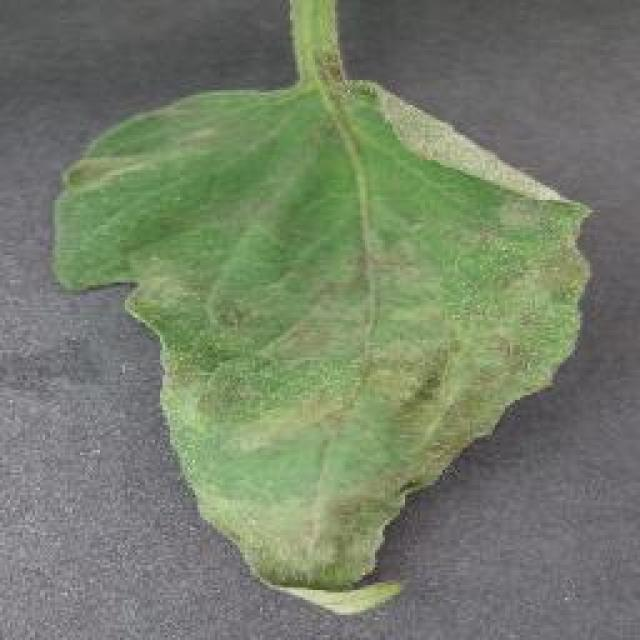Tomato___Late_blight: (51, 0, 594, 618)
